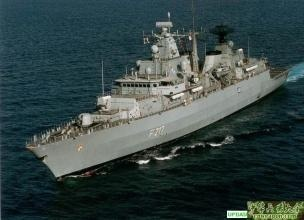warship: (25, 9, 291, 177)
